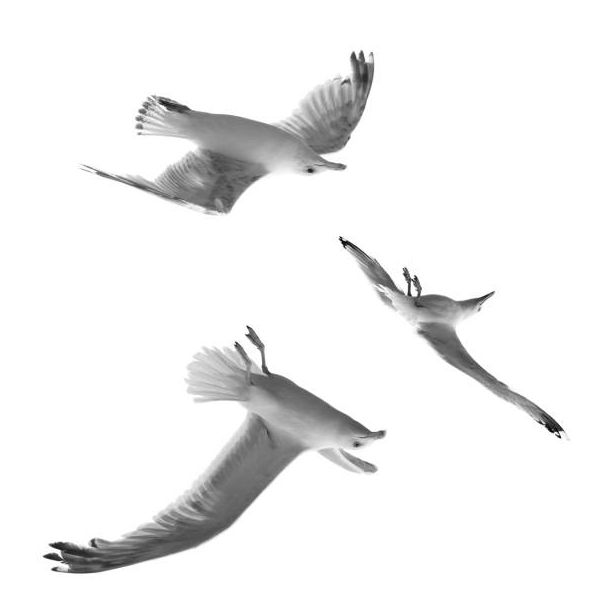Bird: (35, 316, 386, 573), (71, 47, 376, 218), (332, 236, 571, 441)
